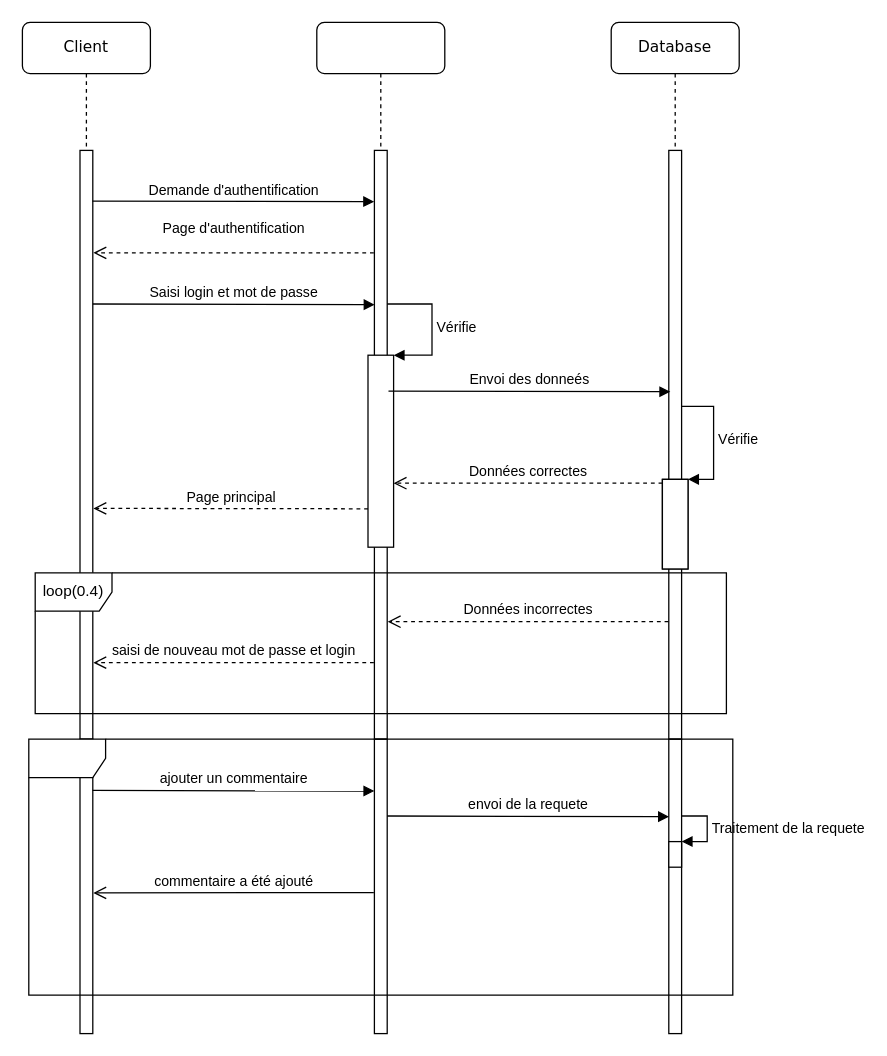
This 887x1056 diagram has some shape labels left out. Here are the shapes that lost their labels. From the top down, the box of each, then its label:
(316, 21, 445, 765): Système
(28, 738, 733, 995): par
